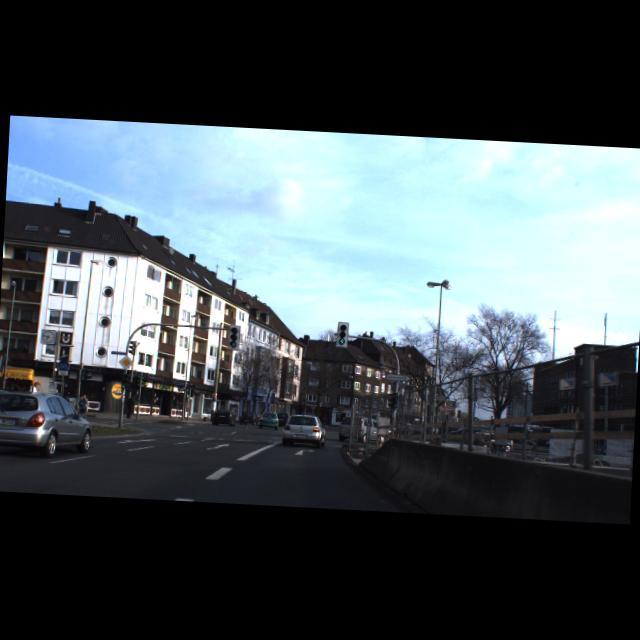other: (119, 354, 134, 372)
